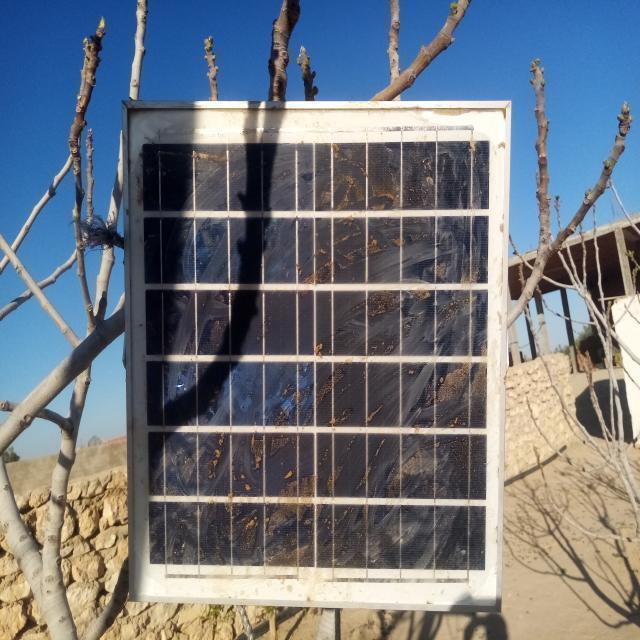Anomaly Solar Panel: (122, 103, 509, 610)
Surface Contaminant: (143, 142, 488, 571)
